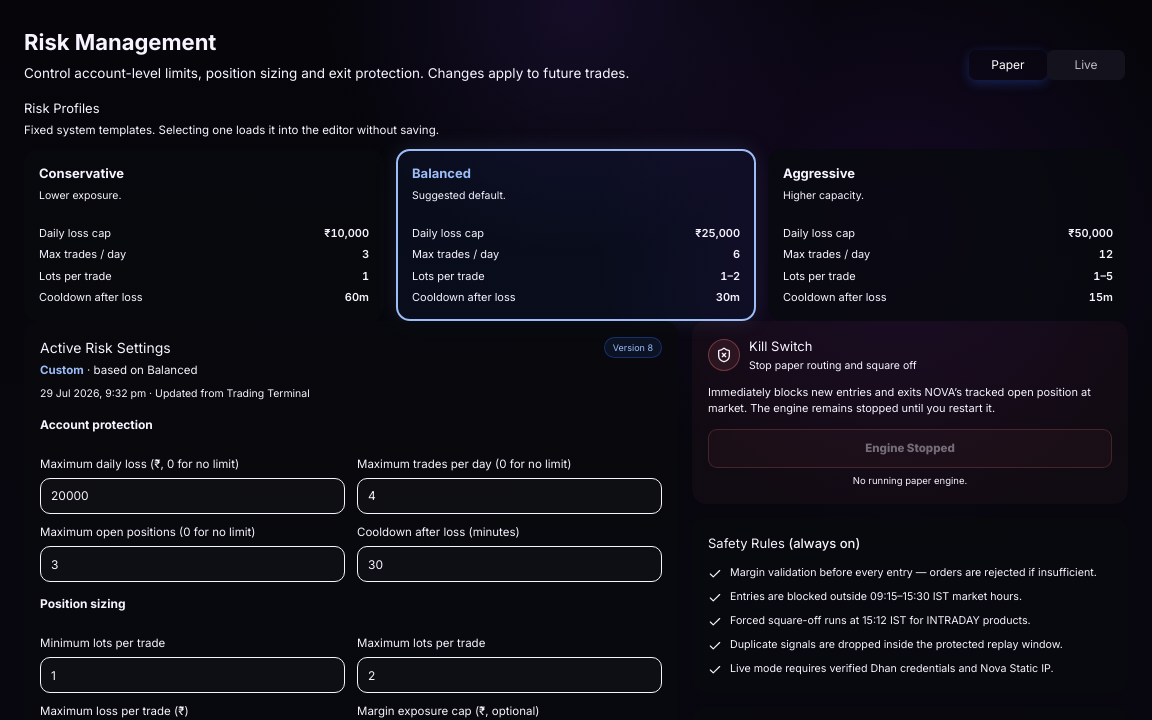
Test: RiskPage › loads a fixed preset into the editor without saving it
Click the button that starts with "Conservative".
click(82, 173)  # box [24,149,384,320]
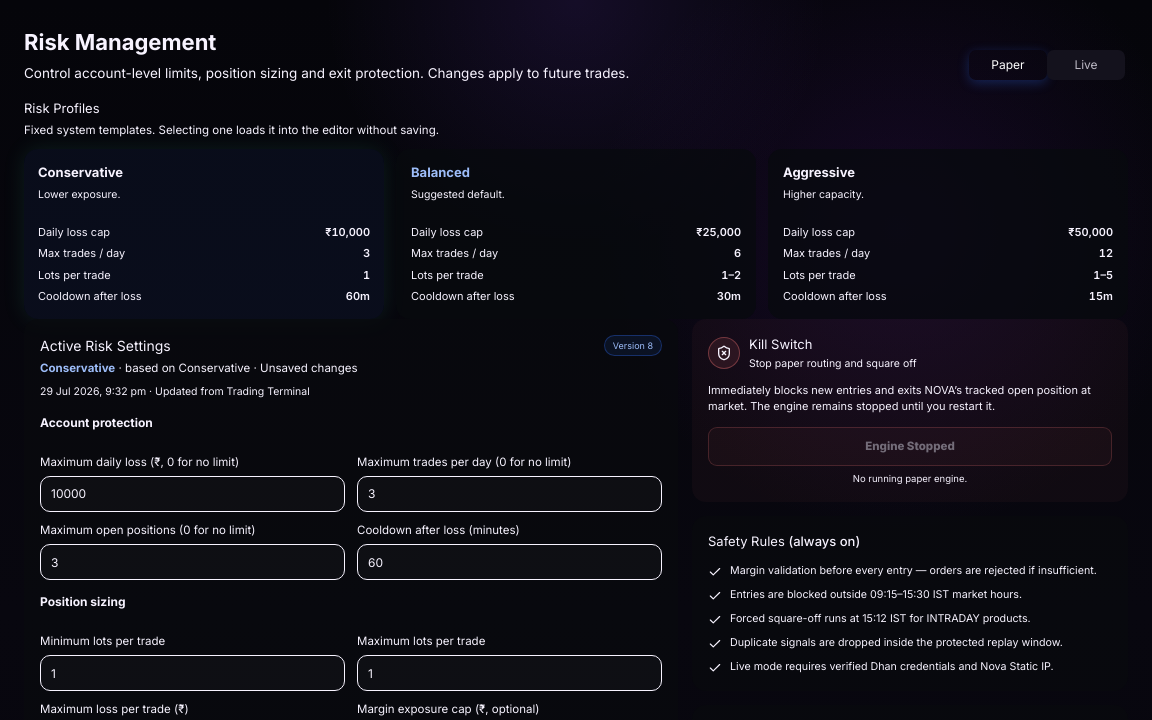
Expected: the number field showing "10000" is shown, [40,476,345,512]
Expected: the text "Conservative · based on Conservative · Unsaved changes" is shown, [40,360,358,377]
